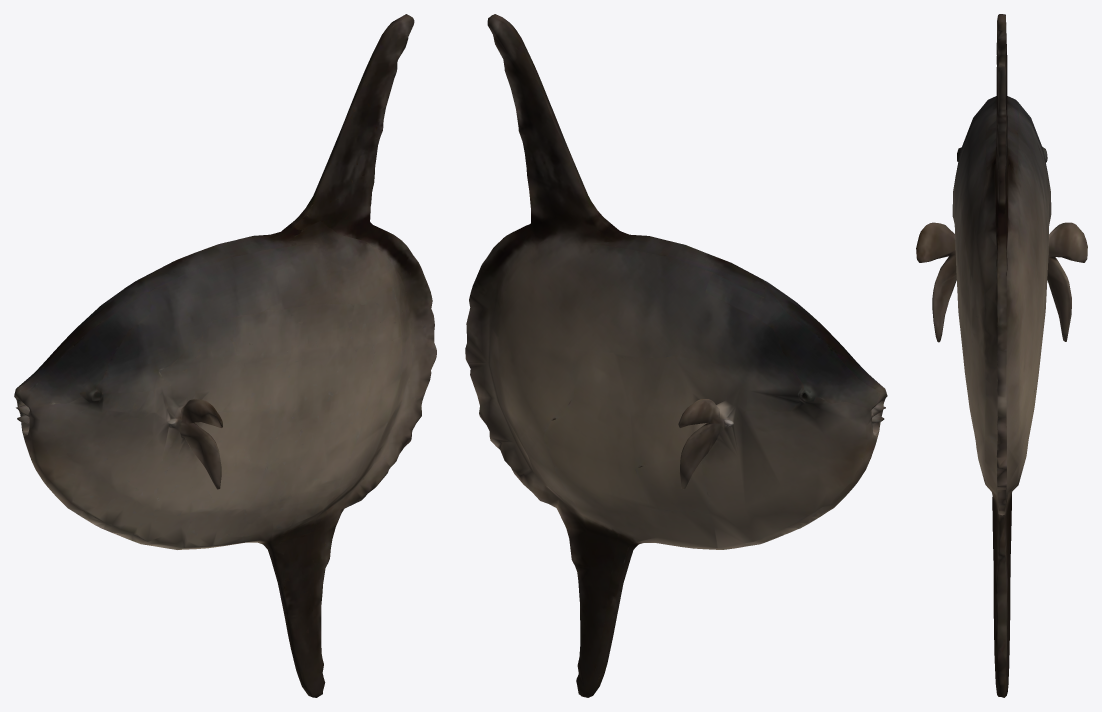
The model's file is sunfish.glb.
3 views of the same model, side by side, from view 1: azimuth 30°, elevation 25°; view 2: azimuth 150°, elevation 25°; view 3: azimuth 270°, elevation 25° (orthographic). The views are drawn at different scales.
Parts seen in each view (by area): view 1: geometry_0; view 2: geometry_0; view 3: geometry_0.
Part boxes in pixels (x1,y1,x2,y2): geometry_0: [14, 14, 436, 697]; geometry_0: [465, 14, 887, 697]; geometry_0: [916, 14, 1087, 697].
Size of the model in its own units: 0.6649 by 1 by 0.2134.
Materials: 1 (1 with a texture image).
